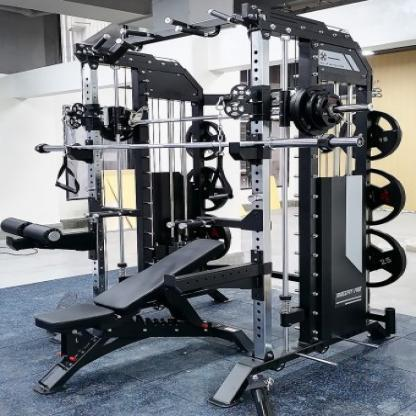smith machine: (0, 6, 396, 416)
